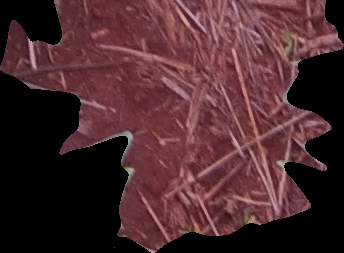soil: (2, 1, 342, 253)
